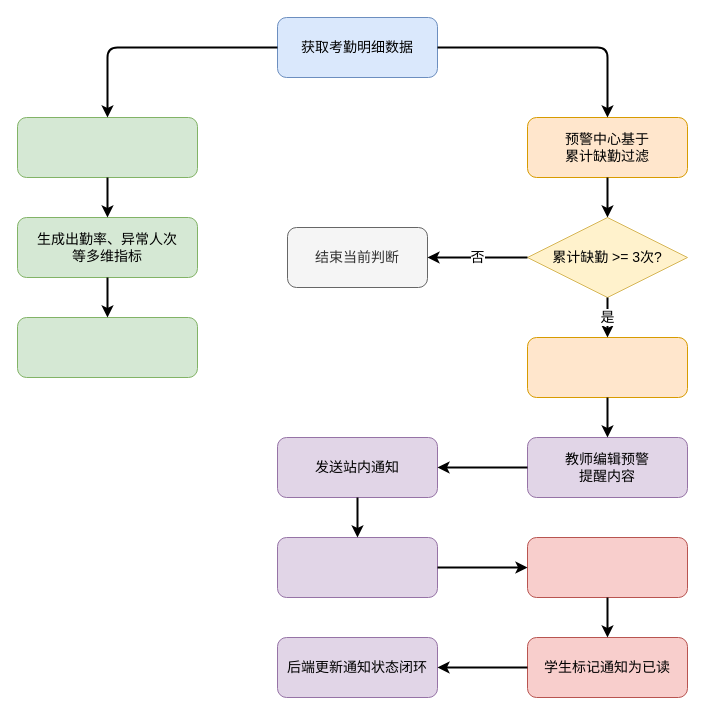
This 705x715 diagram has some shape labels left out. The centre of each missing label's shape, as x and y in pixels:
"写入attendance_notice表" goes at [357,567].
"前端ECharts可视化展示" goes at [107,347].
"学生端查看缺勤通知" goes at [607,567].
"数据中心聚合统计" goes at [107,147].
"筛选出高缺勤 学生名单" goes at [607,367].
